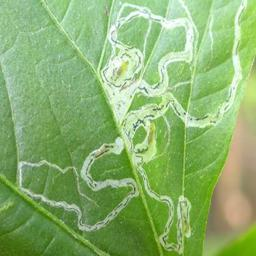liriomyza: (18, 1, 247, 256)
